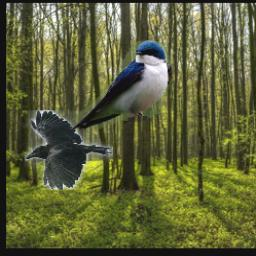Crow: (25, 111, 113, 191)
Swallow: (71, 39, 172, 129)
